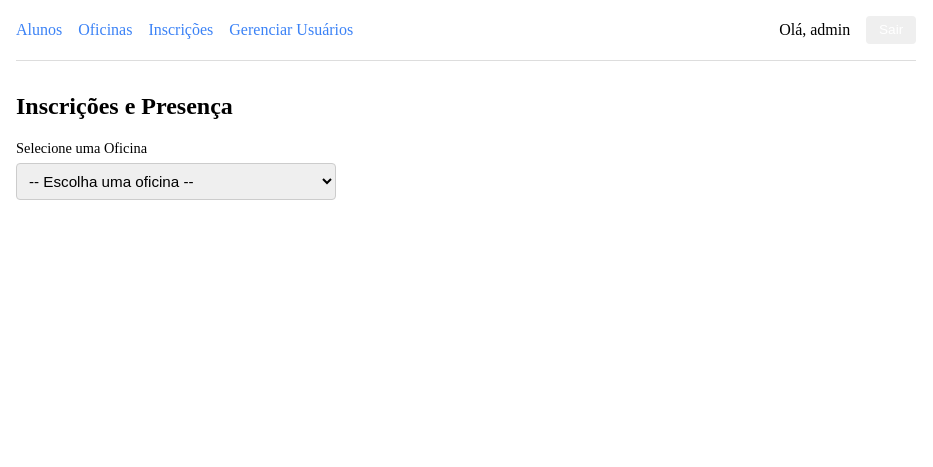
Test: InscricoesView › exibe a tabela de inscritos ao selecionar uma oficina
Select "Java Básico — 10/07/2026" in the dropdown with id "sel-oficina" at [176, 182], box x1=16 y1=163 x2=336 y2=200
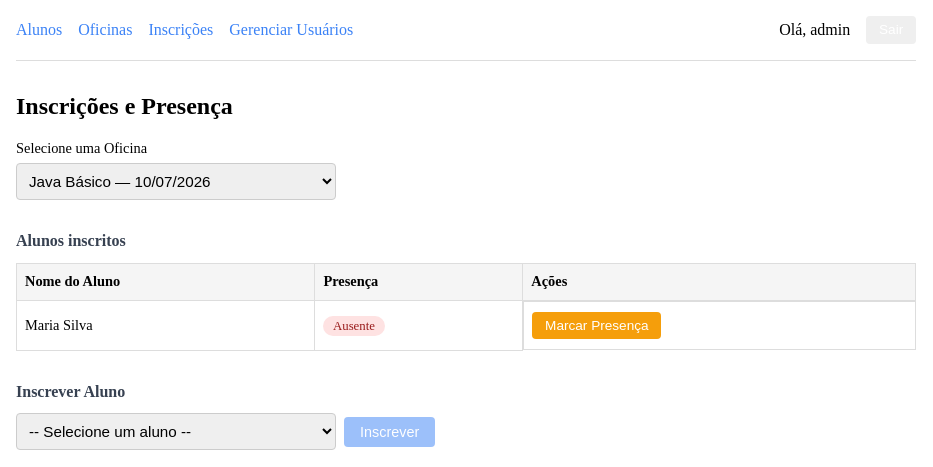
Expected: the table is shown, x1=16 y1=263 x2=916 y2=351
Expected: the text "Maria Silva" is shown, x1=16 y1=301 x2=315 y2=350
